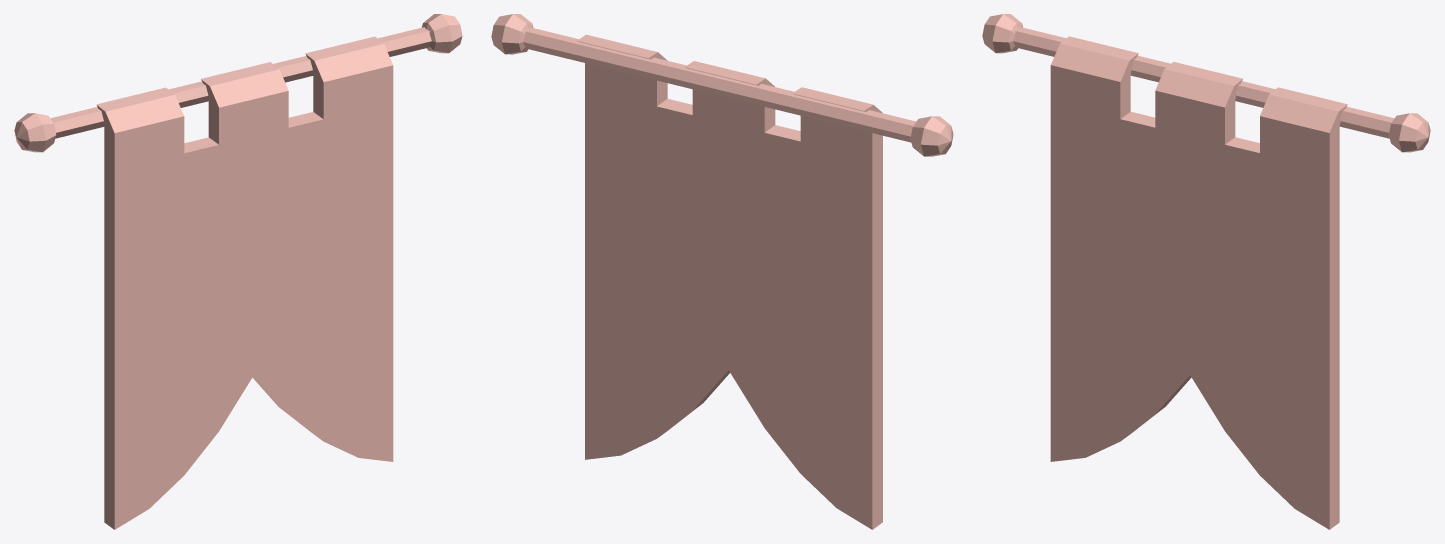
The model's file is Mega_Asset_s_Pack_Cube_022.FBX.
The picture shows the model from 3 angles, left to right: view 1: azimuth 30°, elevation 25°; view 2: azimuth 150°, elevation 25°; view 3: azimuth 330°, elevation 25°; orthographic projection. The views are drawn at different scales.
Parts seen in each view (by area): view 1: Mega_Asset_s_Pack_Cube_022; view 2: Mega_Asset_s_Pack_Cube_022; view 3: Mega_Asset_s_Pack_Cube_022.
Part boxes in pixels (<box>): Mega_Asset_s_Pack_Cube_022: <box>14,14,462,529</box>; Mega_Asset_s_Pack_Cube_022: <box>491,14,953,529</box>; Mega_Asset_s_Pack_Cube_022: <box>982,14,1430,529</box>.
Size of what is drawn, in the model's own units: 191 by 19.9 by 173.
